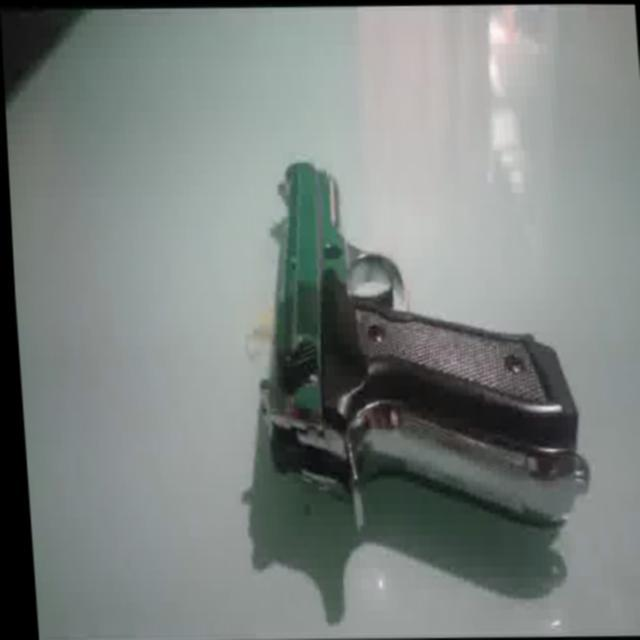weapon: (235, 154, 588, 532)
